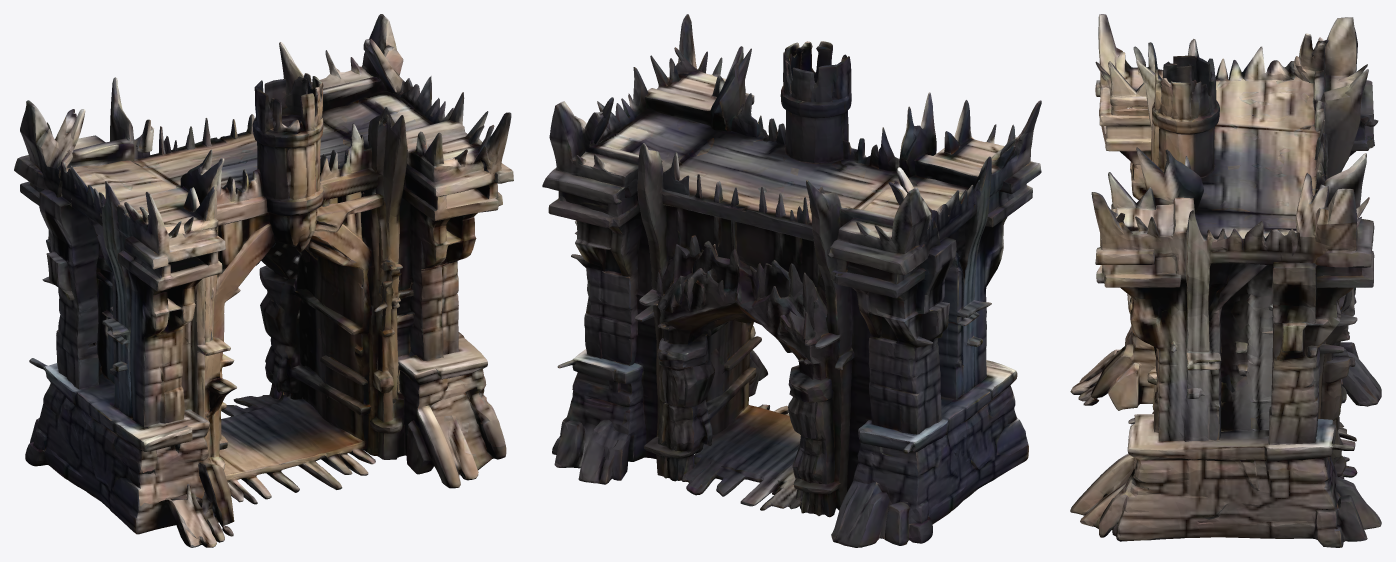
File: orc_fortress_gate_ruin_01.glb
3 views of the same model, side by side, from view 1: azimuth 30°, elevation 25°; view 2: azimuth 150°, elevation 25°; view 3: azimuth 270°, elevation 25° (orthographic).
Parts seen in each view (by area): view 1: geometry_0; view 2: geometry_0; view 3: geometry_0.
Part boxes in pixels (<box>): geometry_0: <box>14,14,513,547</box>; geometry_0: <box>542,14,1041,547</box>; geometry_0: <box>1070,14,1381,547</box>.
Size of the model in its own units: 0.9955 by 1 by 0.7217.
Materials: 1 (1 with a texture image).
